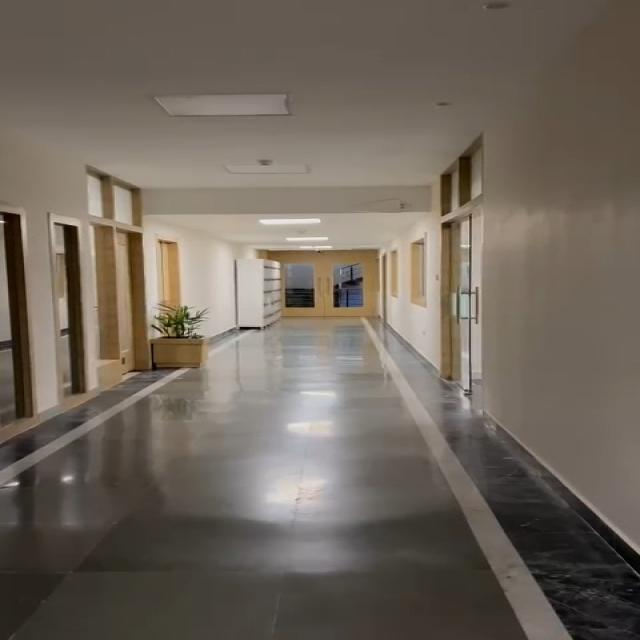door: (0, 160, 151, 413), (427, 148, 528, 401), (248, 246, 386, 322)
floor: (195, 337, 486, 640)
furniture: (163, 300, 215, 372)
